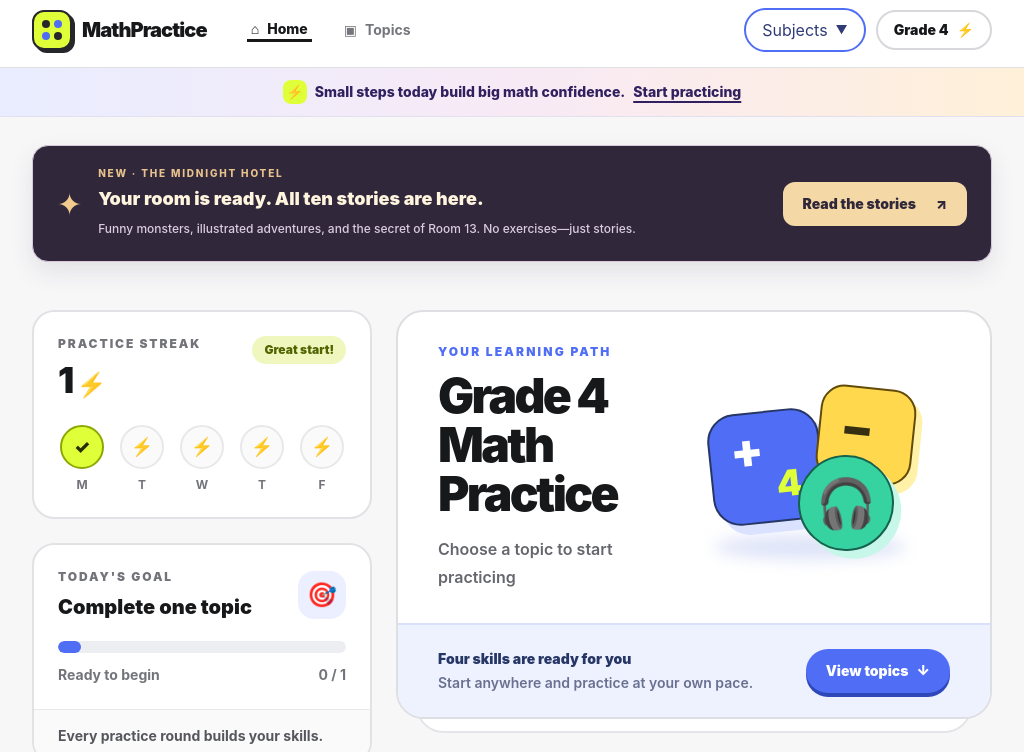
Test: topic selection › explains that spelling distractors are intentional misspellings
Click the button with aria-label "Choose subject".
click(805, 30)  # box [744, 8, 866, 52]
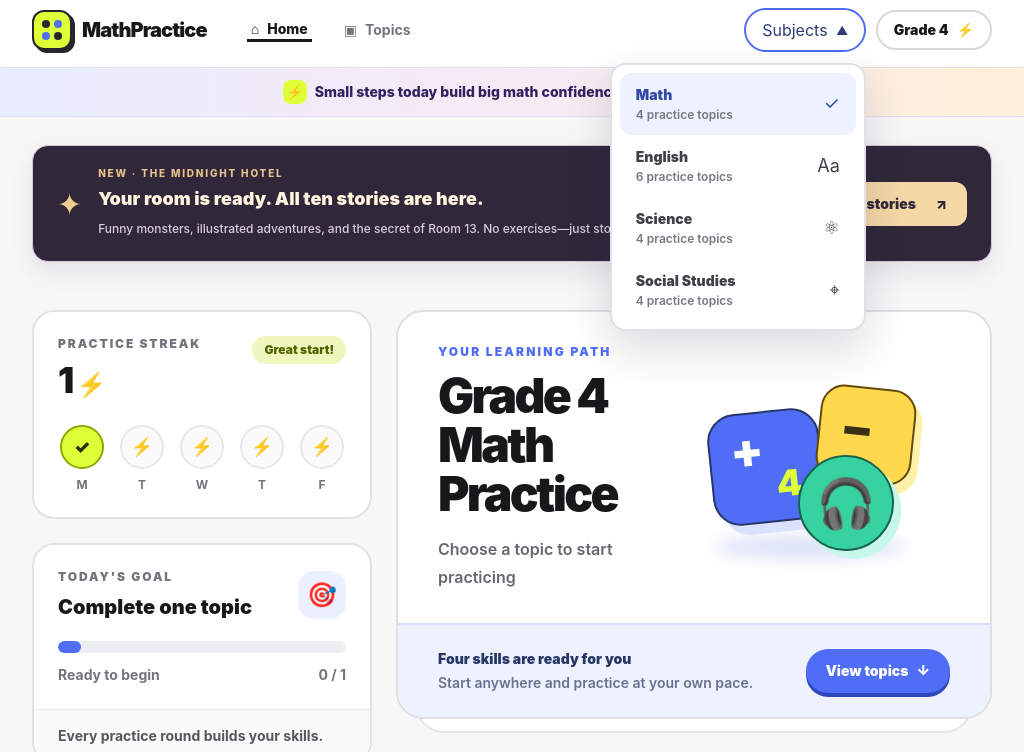
Click the menu item with aria-label "English, 6 practice topics".
click(738, 166)  # box [620, 135, 856, 197]
(page scrolled)
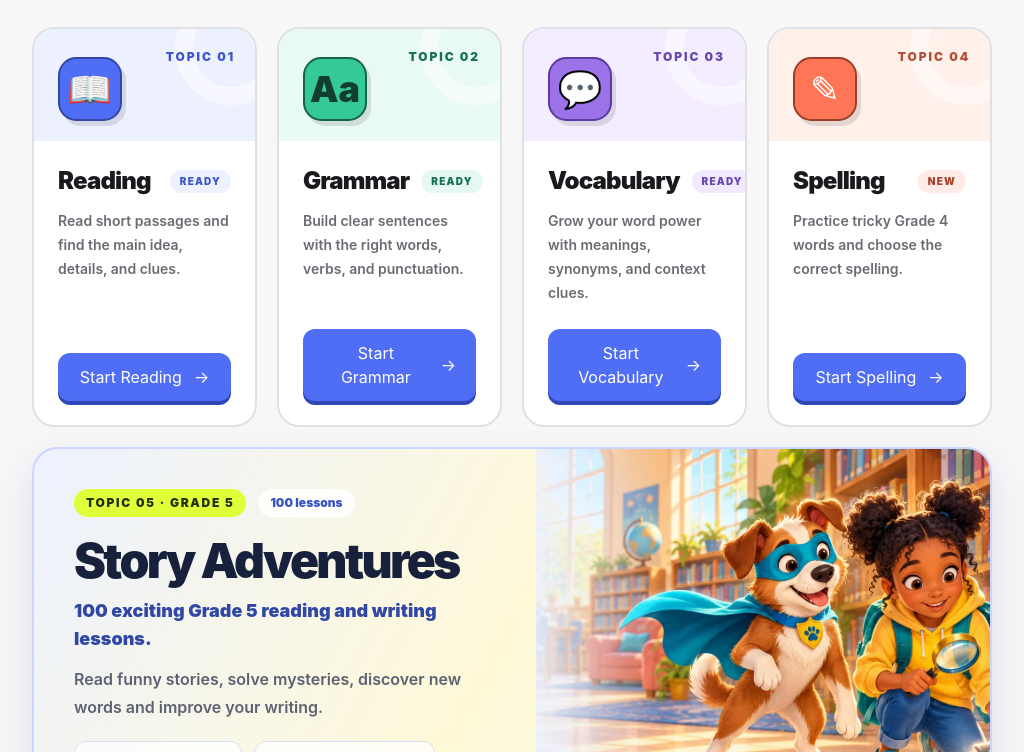
Click the button "Start Spelling →".
click(880, 377)  # box [793, 353, 966, 401]
(page scrolled)
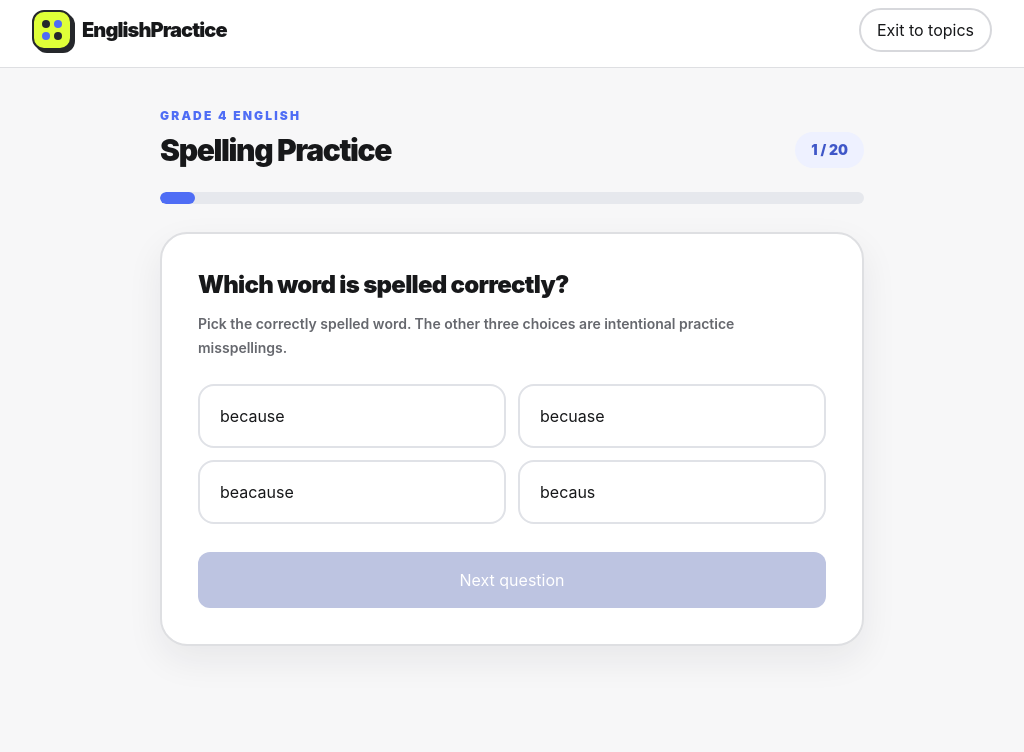
Expected: the text "Pick the correctly spelled word. The other three choices are intentional practice misspellings." is shown, [198, 315, 734, 356]
